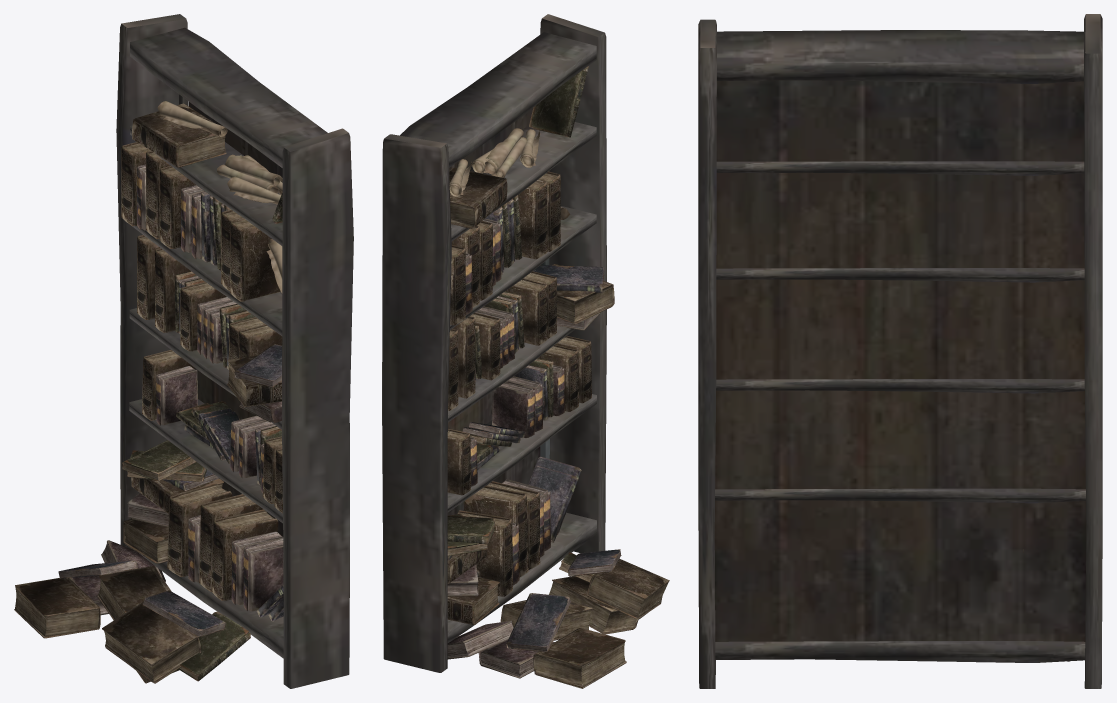
The model's file is AEG023_851out-transformed.glb.
3 views of the same model, side by side, from view 1: azimuth 30°, elevation 25°; view 2: azimuth 150°, elevation 25°; view 3: azimuth 270°, elevation 25° (orthographic). The views are drawn at different scales.
Parts seen in each view (by area): view 1: default; view 2: default; view 3: default.
Part boxes in pixels (<box>): default: <box>14,14,353,688</box>; default: <box>382,14,669,688</box>; default: <box>698,14,1102,688</box>.
Bounding box in the file's own units: 1.19 × 3.21 × 1.79.
Materials: 4 (4 with a texture image).
